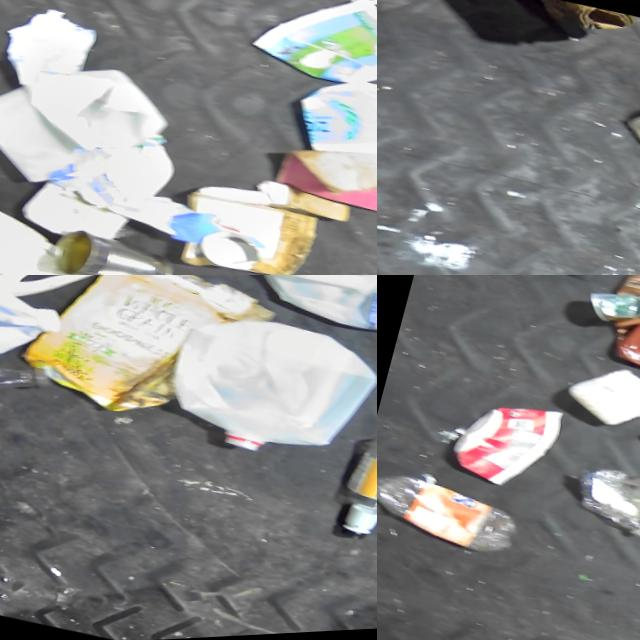can: (43, 218, 181, 275), (580, 275, 640, 352)
milk_jug: (154, 297, 377, 486), (241, 275, 377, 367), (0, 275, 67, 395)
non_white_jug: (596, 275, 640, 395)
plastic_bottle: (377, 457, 530, 567), (0, 324, 53, 433)
